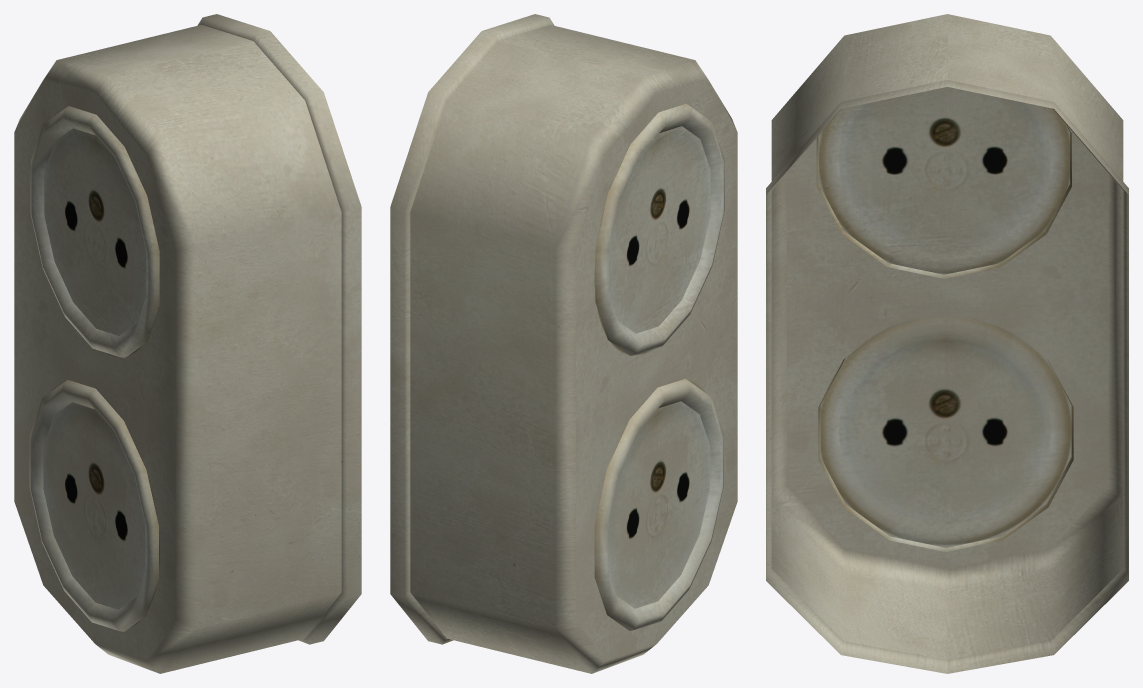
Rendered from Socket_Dubble.fbx.
3 views of the same model, side by side, from view 1: azimuth 30°, elevation 25°; view 2: azimuth 150°, elevation 25°; view 3: azimuth 270°, elevation 25° (orthographic).
Visible parts, largest first — view 1: Socket_Dubble; view 2: Socket_Dubble; view 3: Socket_Dubble.
Boxes of the visible parts, <box> form: Socket_Dubble: <box>14,14,361,673</box>; Socket_Dubble: <box>390,14,737,673</box>; Socket_Dubble: <box>766,14,1128,673</box>.
Bounding box in the file's own units: 0.0671 × 0.2068 × 0.1159.
